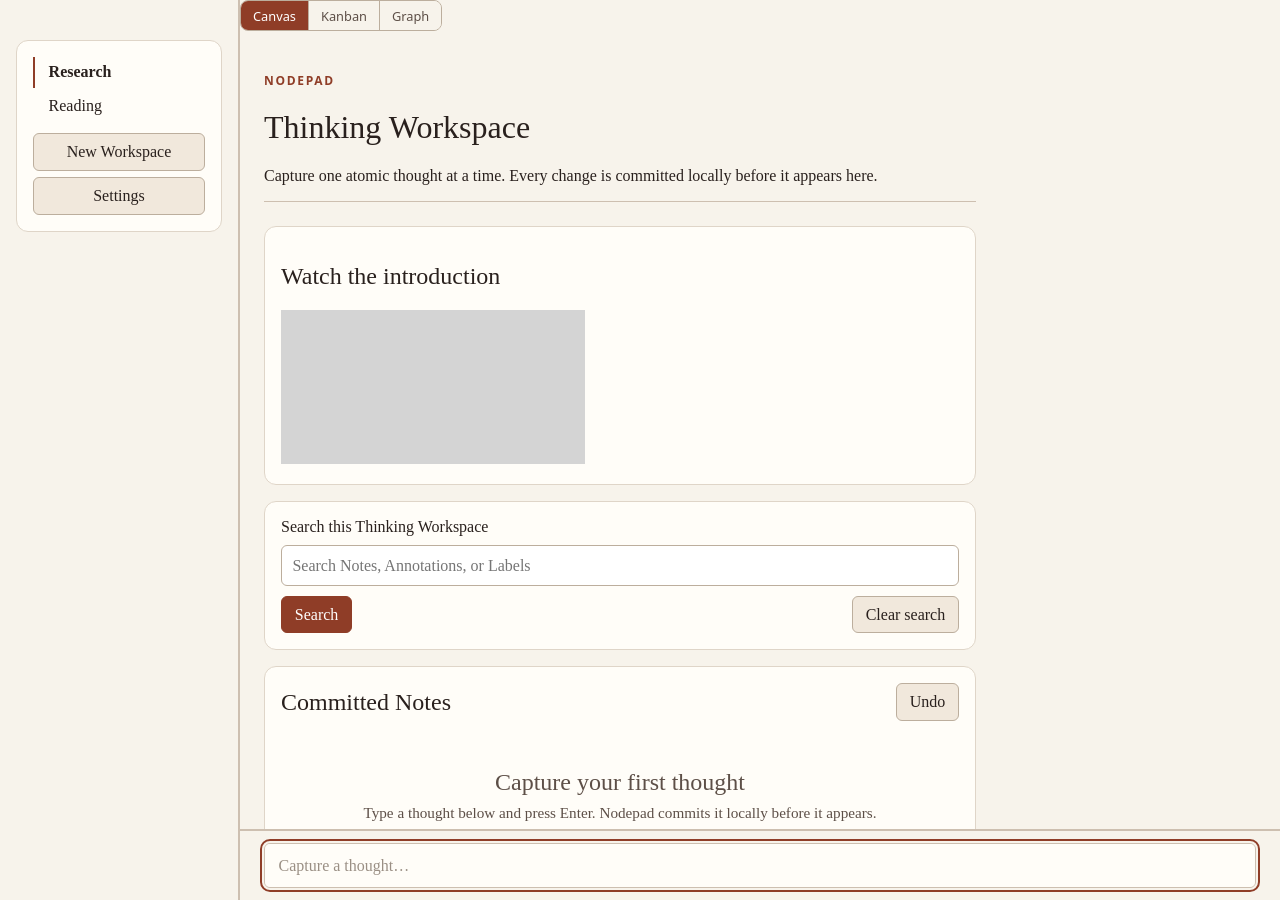
Scenario: manual Note controls › exports a versioned archive and imports one into a fresh Workspace
Click the button with aria-label "Workspace settings". click: x=119, y=196
box: x1=33 y1=177 x2=205 y2=214
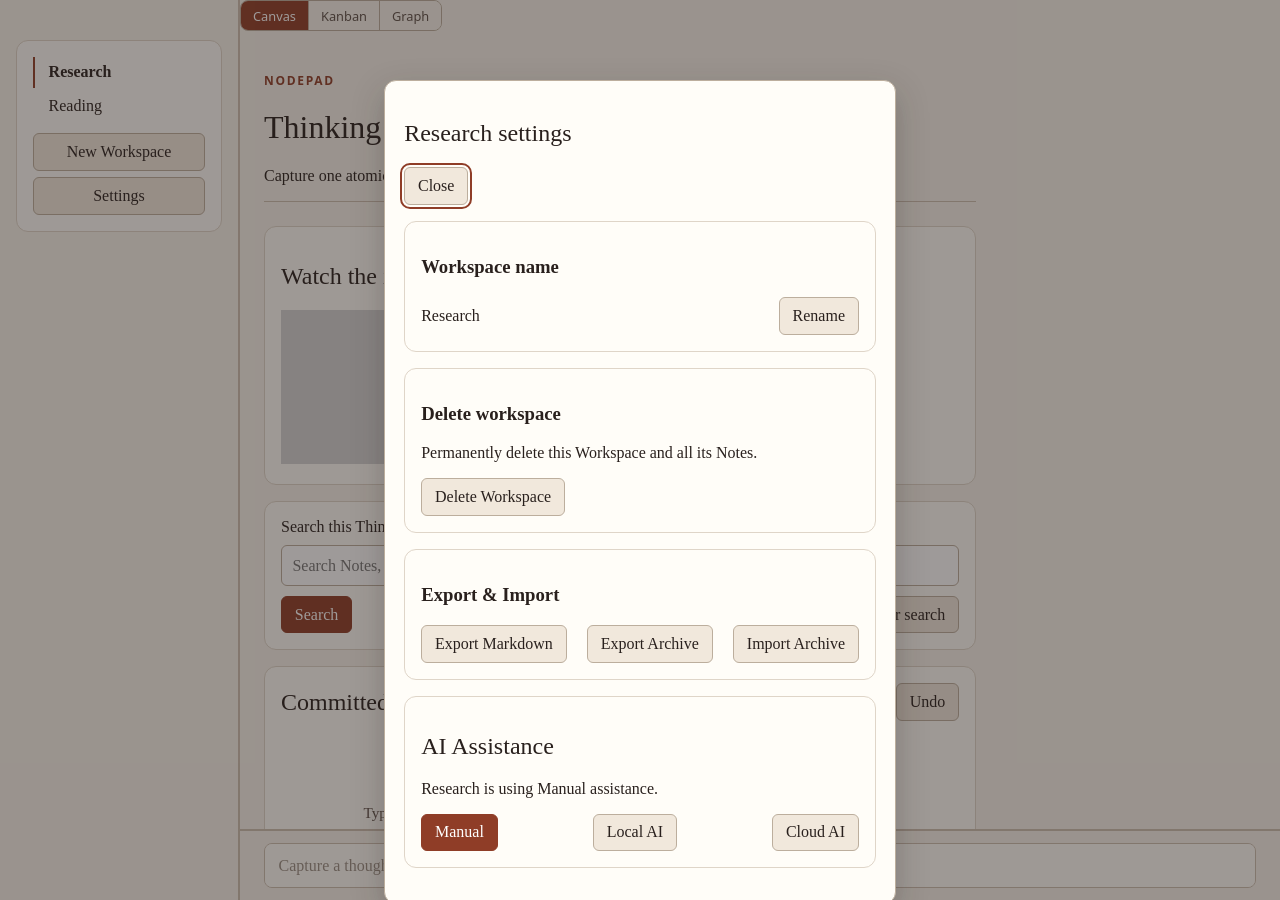
Click the button "Export Archive". click: x=650, y=644
box: x1=587 y1=625 x2=713 y2=663
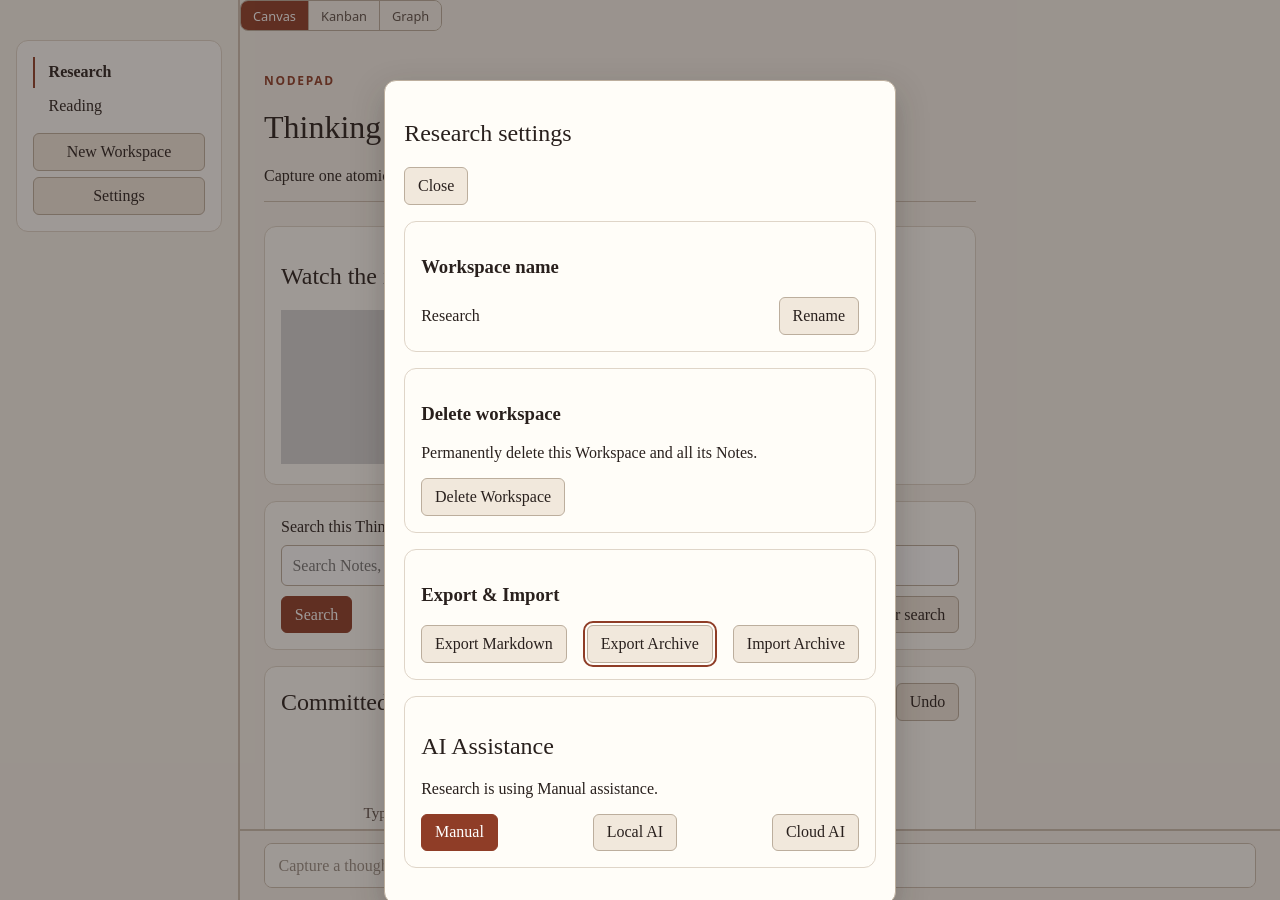
Click the button "Import Archive". click: x=796, y=644
box: x1=733 y1=625 x2=859 y2=663
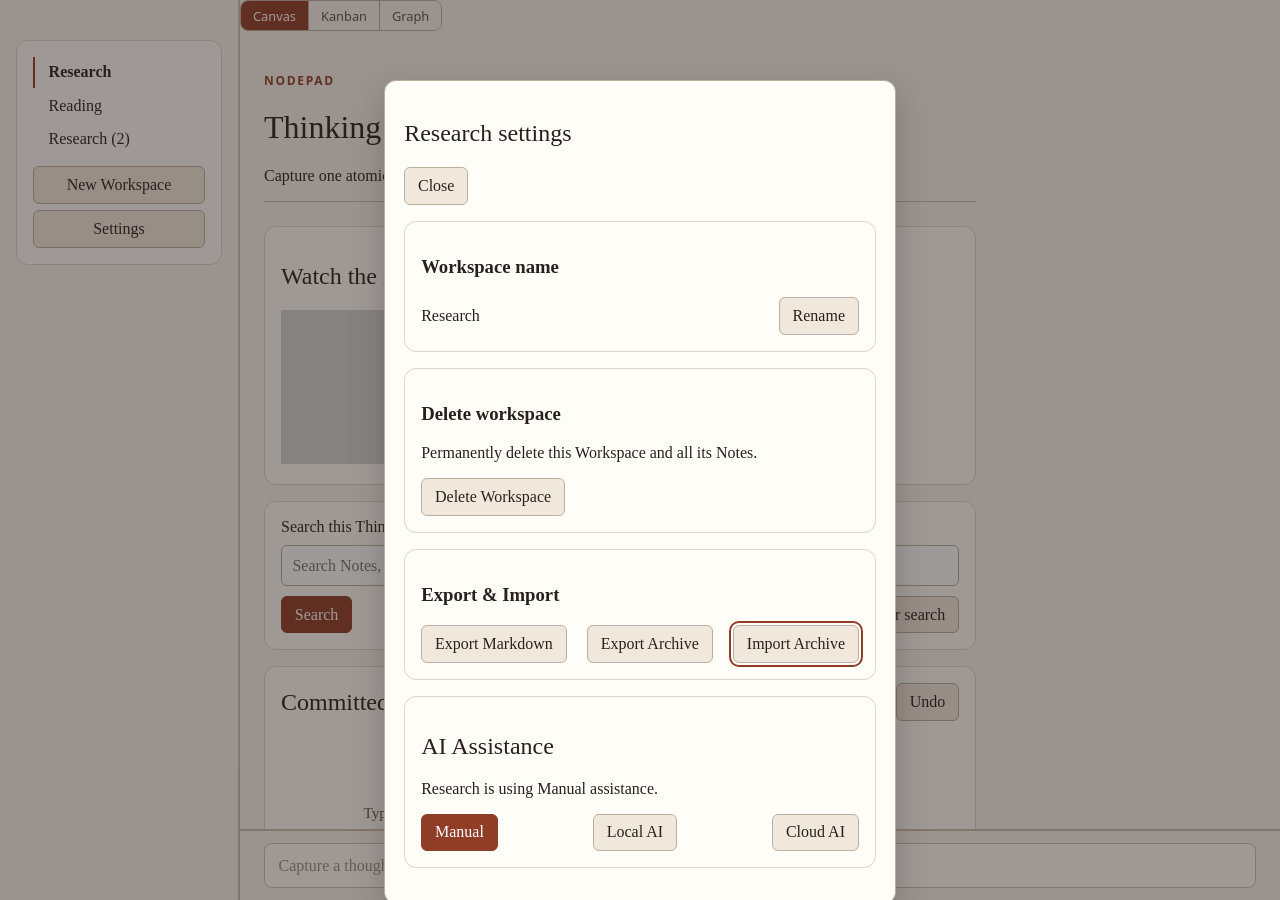
Now the button "Research (2)" is shown, box x1=41 y1=123 x2=146 y2=154
